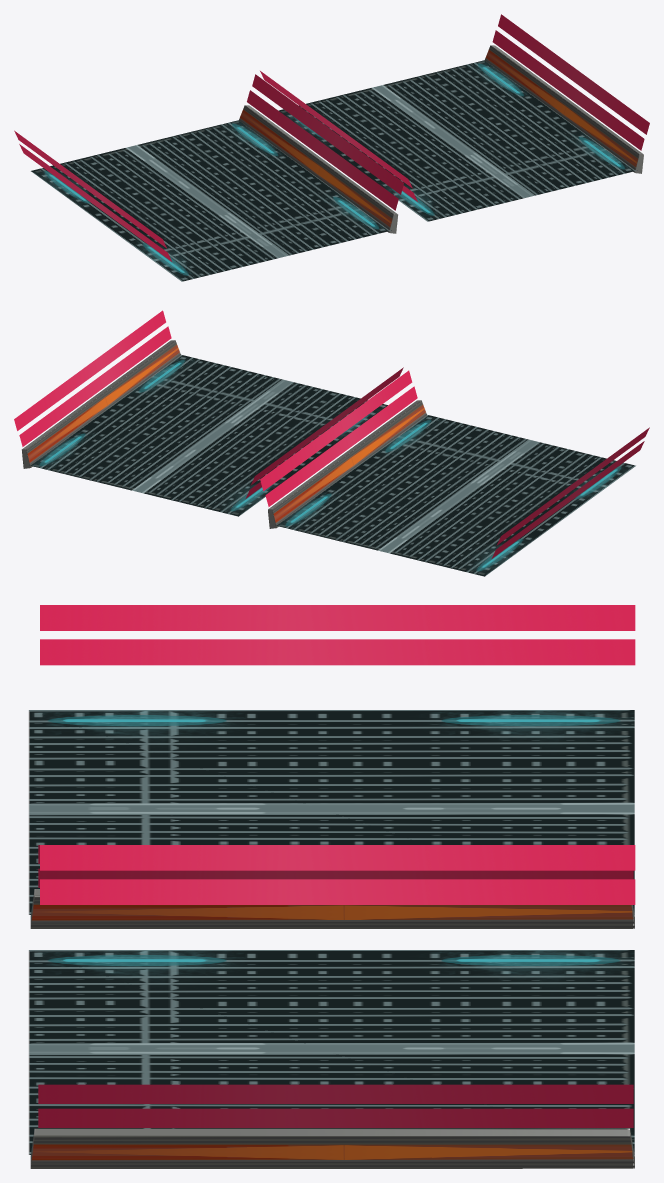
File: trace-1.glb
The picture shows the model from 3 angles, top to bottom: view 1: azimuth 30°, elevation 25°; view 2: azimuth 150°, elevation 25°; view 3: azimuth 270°, elevation 25°; orthographic projection. The views are drawn at different scales.
Parts seen in each view (by area): view 1: Plane.018; view 2: Plane.018; view 3: Plane.018.
Boxes of the visible parts, <box> form: Plane.018: <box>14,14,649,281</box>; Plane.018: <box>14,310,649,576</box>; Plane.018: <box>28,605,635,1168</box>.
Bounding box in the file's own units: 874 × 84.61 × 472.
Materials: 2 (2 with a texture image).
